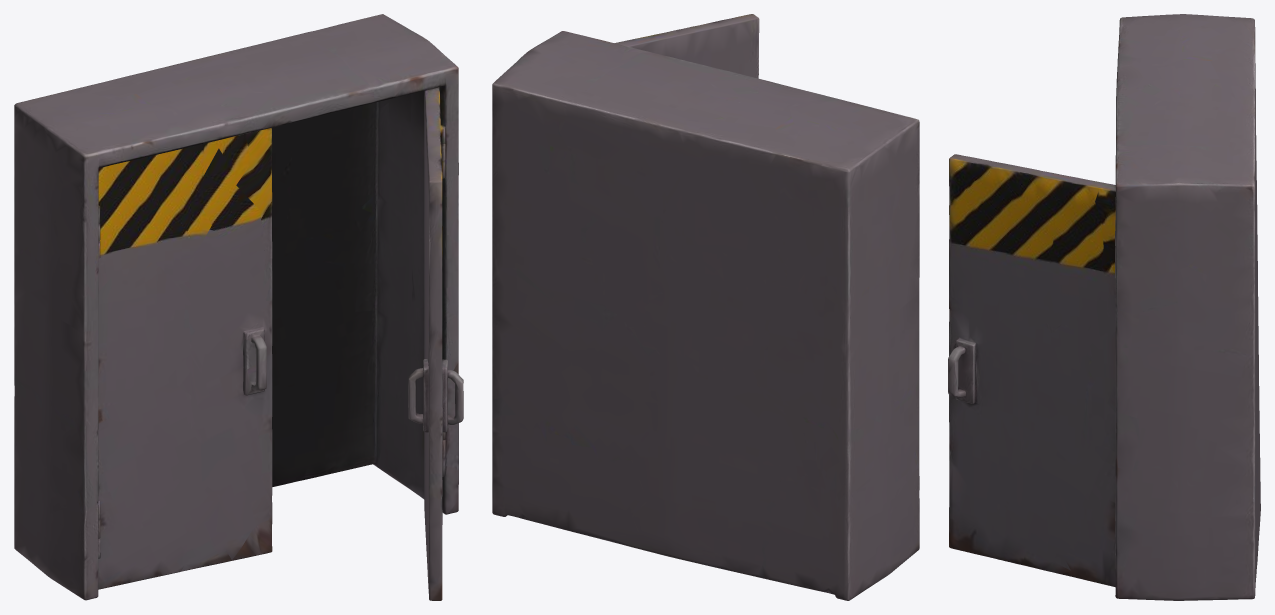
File: decor_door_industrial.glb
The picture shows the model from 3 angles, left to right: view 1: azimuth 30°, elevation 25°; view 2: azimuth 150°, elevation 25°; view 3: azimuth 270°, elevation 25°; orthographic projection. The views are drawn at different scales.
Visible parts, largest first — view 1: body, door_l; view 2: body; view 3: body.
Part boxes in pixels (box(x1,y1,x2,y2)): body: box(14, 14, 463, 600); door_l: box(97, 130, 270, 594); body: box(492, 14, 919, 600); body: box(948, 14, 1260, 600).
Size of the model in its own units: 1.84 by 2.1 by 1.43.
3 materials, 3 textured.
